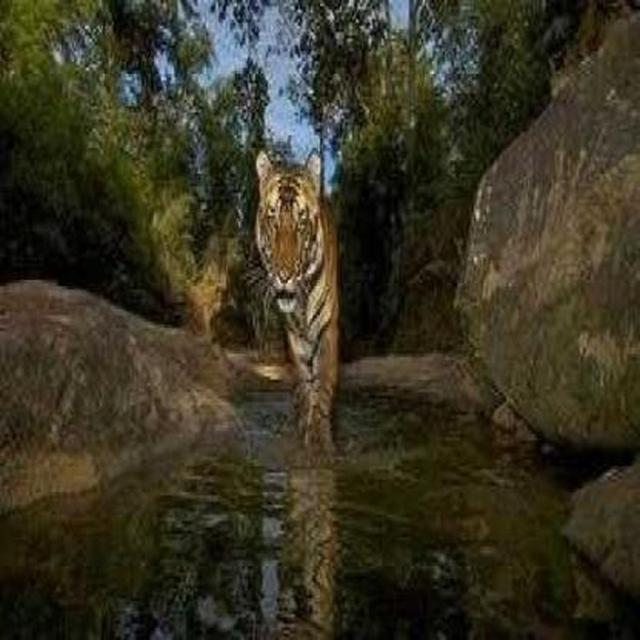tiger: (236, 147, 343, 461)
